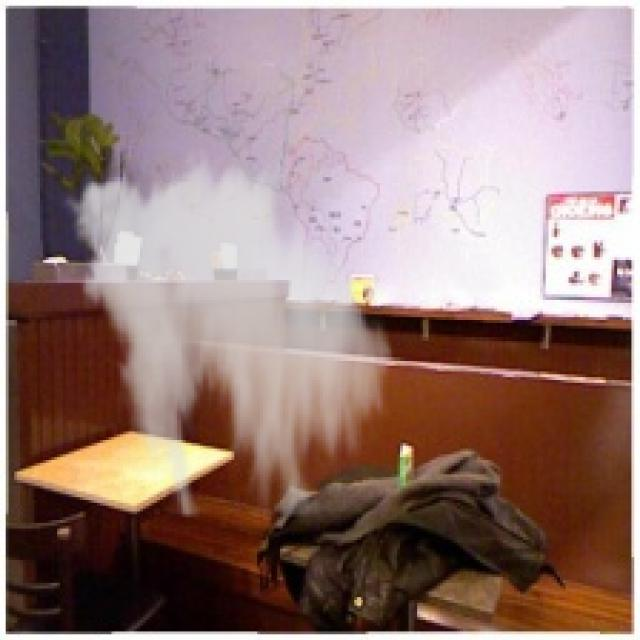smoke: (57, 146, 403, 517)
